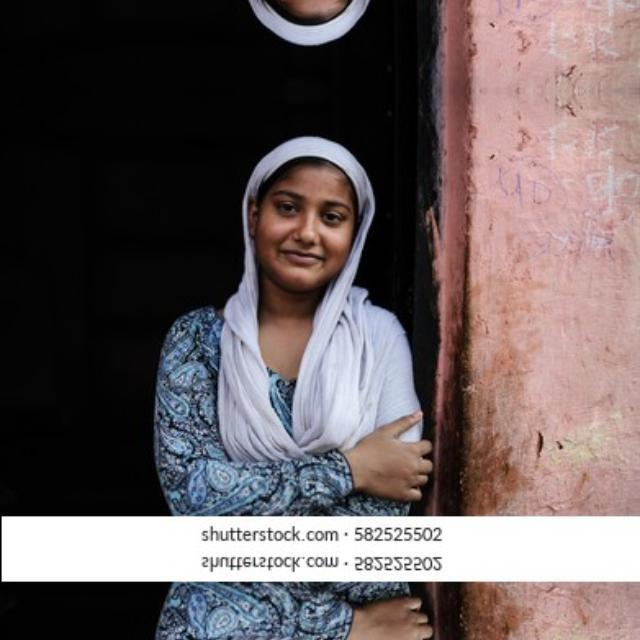person: (162, 130, 436, 512), (161, 583, 436, 640), (161, 0, 436, 50)
